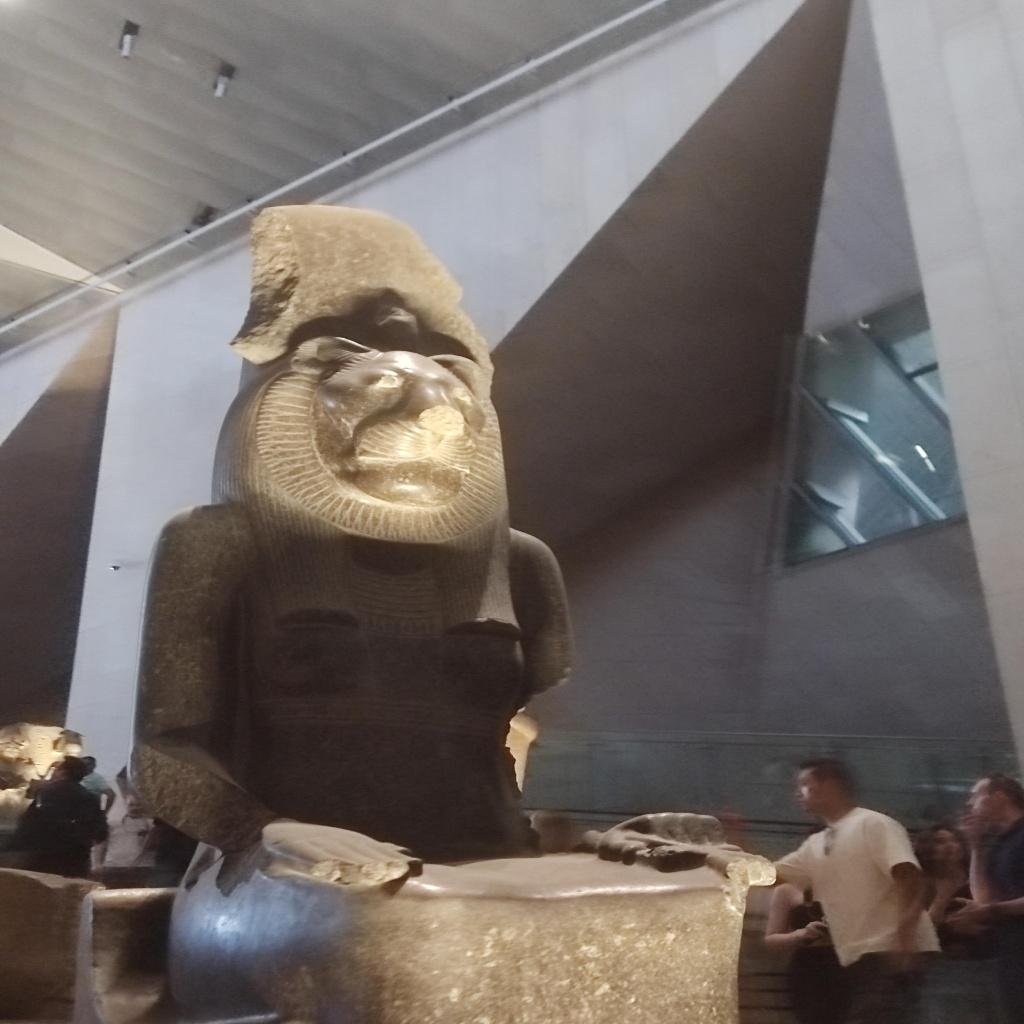Seated Statue of God Sekhmet: (120, 199, 774, 1018)
